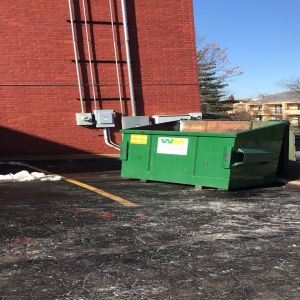Dumpster: (117, 115, 293, 189)
